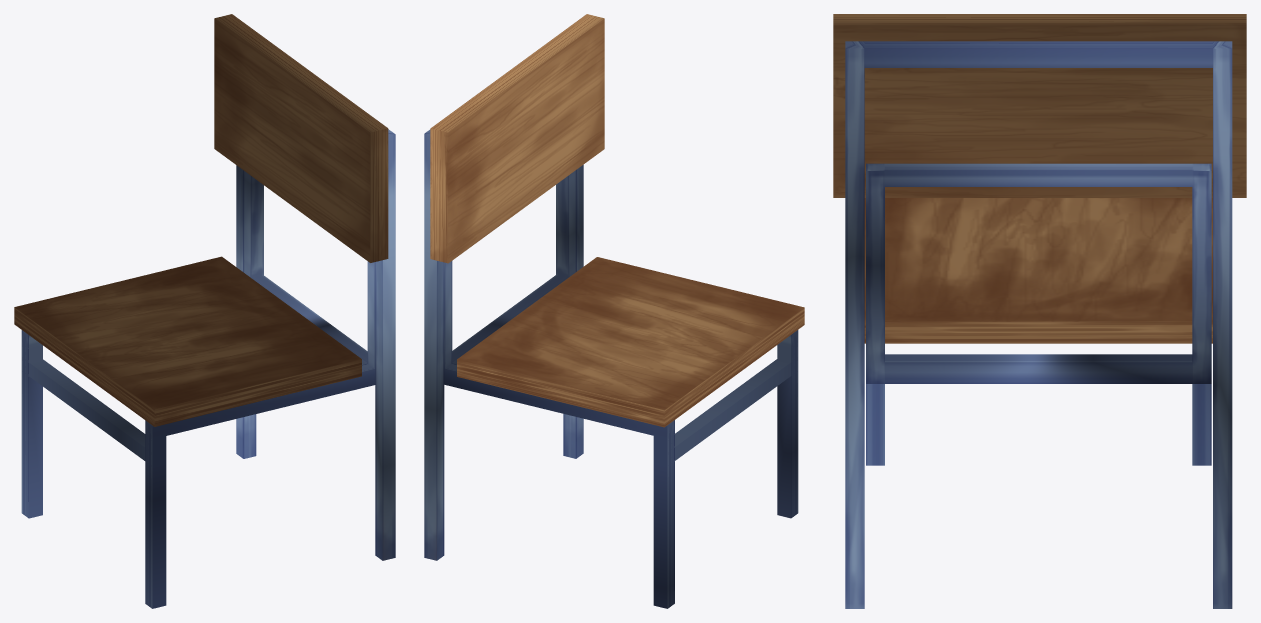
The model's file is kao-ee.fbx.
The picture shows the model from 3 angles, left to right: view 1: azimuth 30°, elevation 25°; view 2: azimuth 150°, elevation 25°; view 3: azimuth 270°, elevation 25°; orthographic projection. The views are drawn at different scales.
Parts seen in each view (by area): view 1: Cube.003, Cube.004; view 2: Cube.003, Cube.004; view 3: Cube.003, Cube.004.
Part boxes in pixels (x1=…): Cube.003: x1=14, y1=14, x2=388, y2=426; Cube.004: x1=21, y1=129, x2=395, y2=608; Cube.003: x1=430, y1=14, x2=804, y2=427; Cube.004: x1=424, y1=129, x2=798, y2=608; Cube.003: x1=833, y1=14, x2=1246, y2=343; Cube.004: x1=845, y1=41, x2=1232, y2=608.
Bounding box in the file's own units: 197 × 346 × 225.
1 material, 1 textured.
